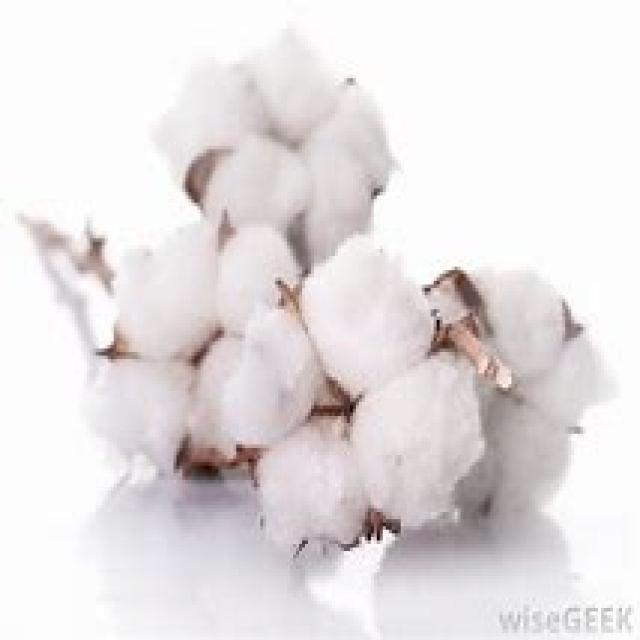Matured Cotton Boll: (220, 229, 492, 569), (74, 212, 296, 494), (142, 17, 403, 245), (449, 250, 618, 514)
